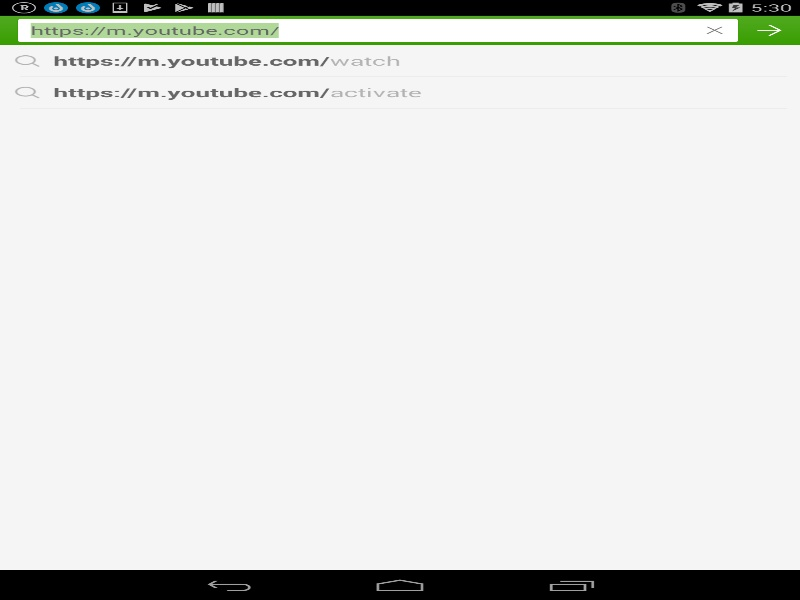Input: (20, 20, 736, 40)
